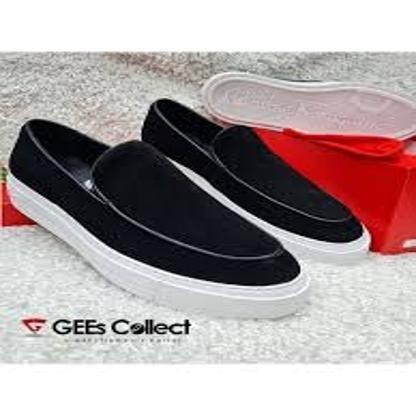not trash: (1, 100, 372, 318), (194, 61, 416, 147)
